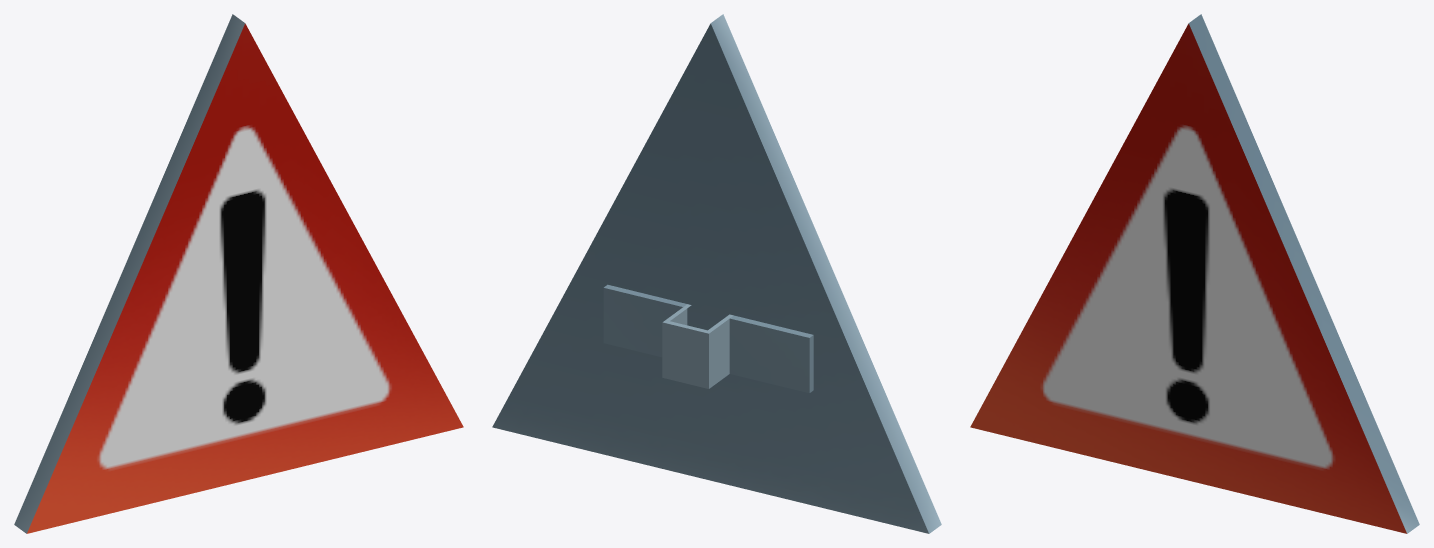
Rendered from Sign13Austrian.fbx.
The picture shows the model from 3 angles, left to right: view 1: azimuth 30°, elevation 25°; view 2: azimuth 150°, elevation 25°; view 3: azimuth 330°, elevation 25°; orthographic projection.
Parts seen in each view (by area): view 1: Sign13Austrian; view 2: Sign13Austrian; view 3: Sign13Austrian.
Part boxes in pixels (x1,y1,x2,y2): Sign13Austrian: (14, 14, 463, 533); Sign13Austrian: (492, 14, 941, 533); Sign13Austrian: (970, 14, 1419, 533).
Size of the model in its own units: 1 by 1 by 0.1489.
